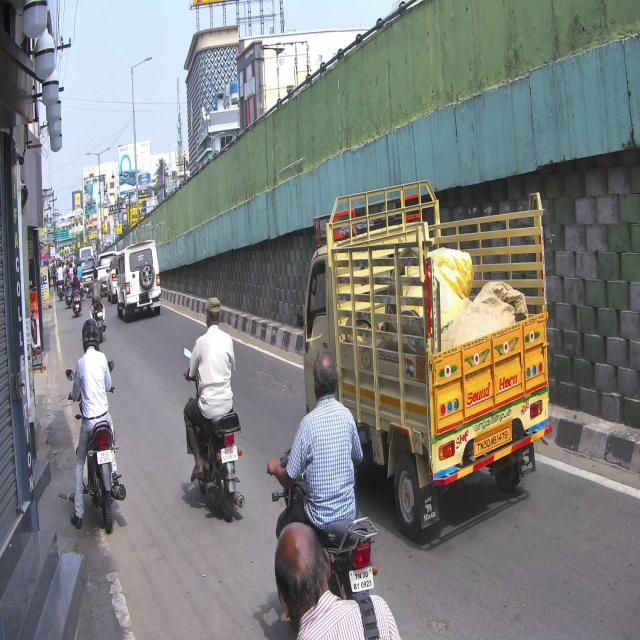single_rider: (269, 351, 383, 606), (182, 294, 245, 526), (71, 316, 126, 536)
